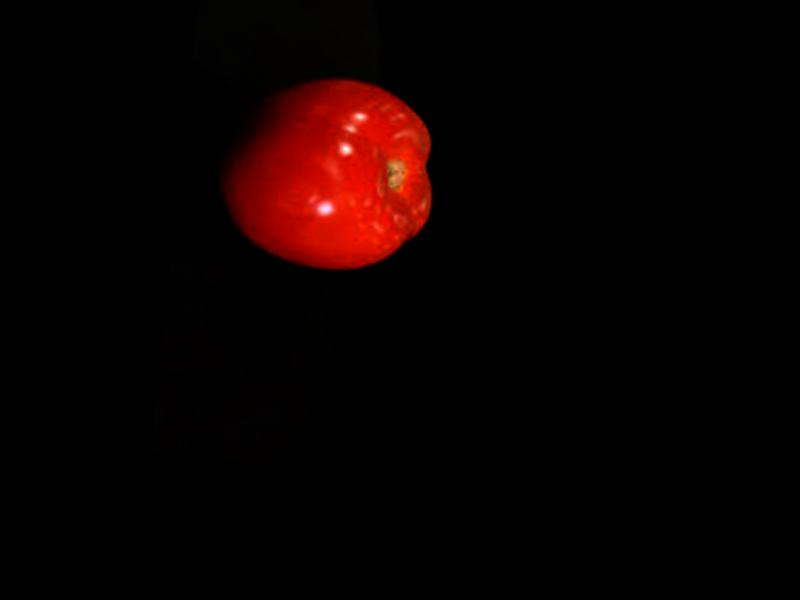Tomato: (208, 64, 447, 282)
